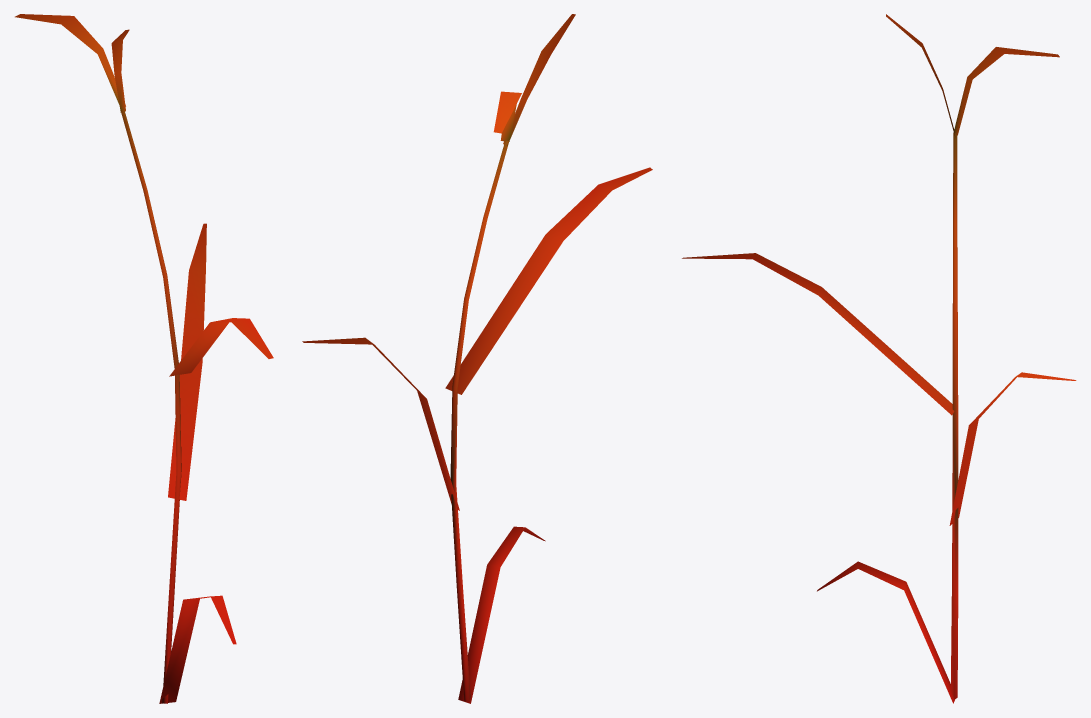
The model's file is SM_OatPlant_4.fbx.
The picture shows the model from 3 angles, left to right: view 1: azimuth 30°, elevation 25°; view 2: azimuth 150°, elevation 25°; view 3: azimuth 270°, elevation 25°; orthographic projection. The views are drawn at different scales.
Visible parts, largest first — view 1: SM_OatPlant_4; view 2: SM_OatPlant_4; view 3: SM_OatPlant_4.
Part boxes in pixels (left/top/right/bottom): SM_OatPlant_4: left=15, top=14, right=273, bottom=703; SM_OatPlant_4: left=302, top=14, right=652, bottom=703; SM_OatPlant_4: left=682, top=14, right=1076, bottom=703.
Bounding box in the file's own units: 0.2768 × 0.9428 × 0.5188.
